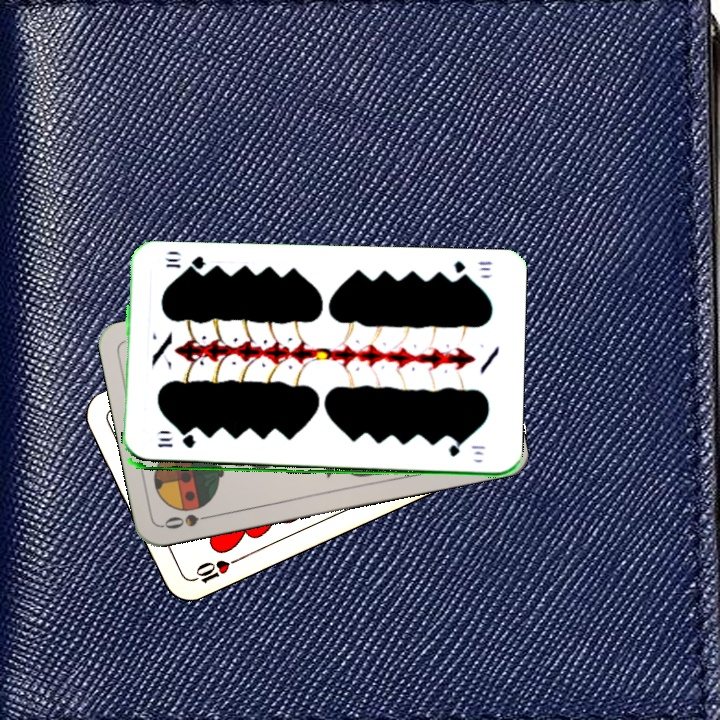G10: (450, 257, 494, 282), (154, 434, 198, 451)
H10: (185, 554, 242, 586)
SO: (159, 509, 218, 532)
